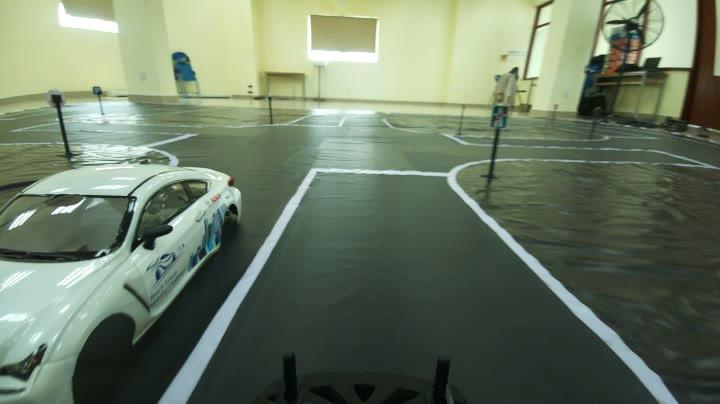car: (0, 136, 241, 392)
highway_exit: (485, 97, 514, 136)
